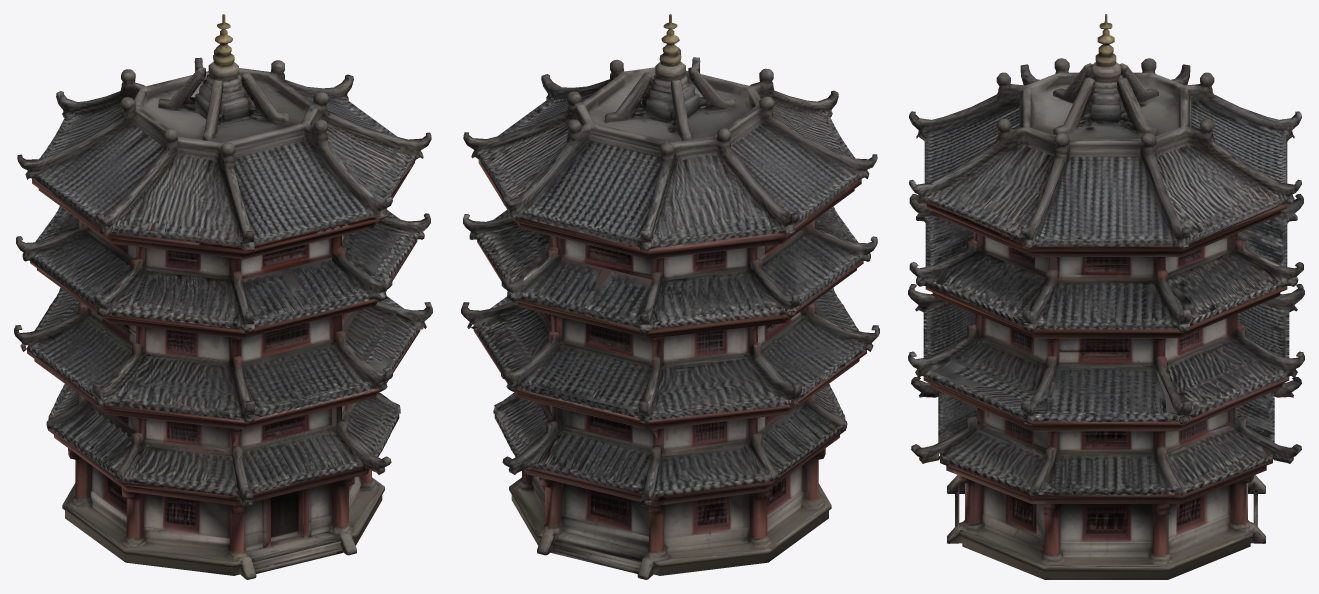
Rendered from cuiyun-tower.glb.
The picture shows the model from 3 angles, left to right: view 1: azimuth 30°, elevation 25°; view 2: azimuth 150°, elevation 25°; view 3: azimuth 270°, elevation 25°; orthographic projection.
Visible parts, largest first — view 1: mesh_rep_0_ori_repair; view 2: mesh_rep_0_ori_repair; view 3: mesh_rep_0_ori_repair.
Boxes of the visible parts, <box> form: mesh_rep_0_ori_repair: <box>14,14,432,579</box>; mesh_rep_0_ori_repair: <box>461,14,879,579</box>; mesh_rep_0_ori_repair: <box>908,14,1304,579</box>.
Size of the model in its own units: 0.7328 by 1.02 by 0.7307.
1 material, 1 textured.
